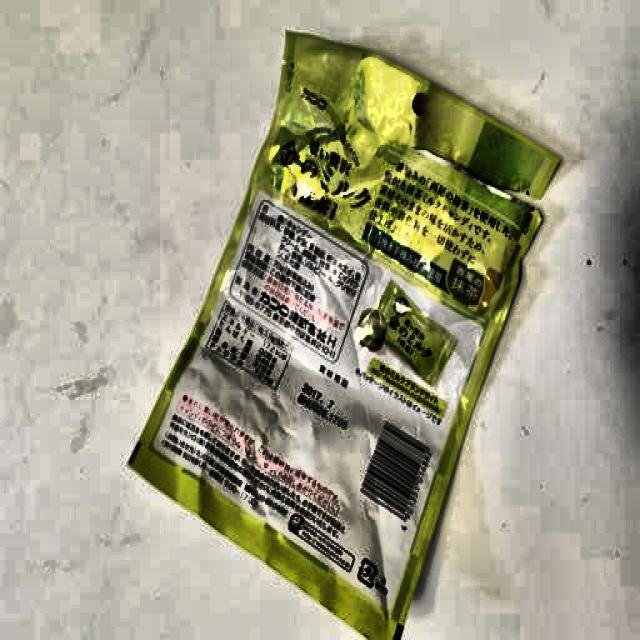plastic: (135, 41, 528, 606)
